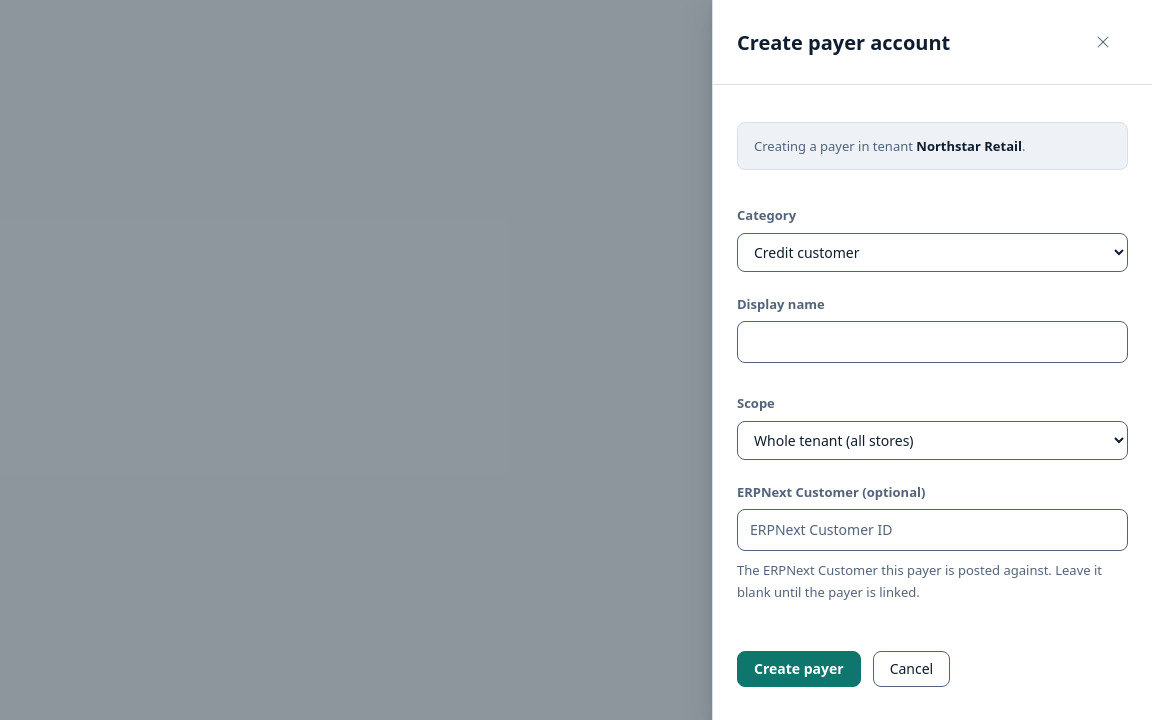
Test: PayerCreate › a server 400 (e.g. a bad externalRef) is form-level with the request id, never pinned on displayName
Type "CUST " into the field labelled "ERPNext Customer (optional)".
click(932, 530); type("CUST ")  # box 737,509 -> 1128,551
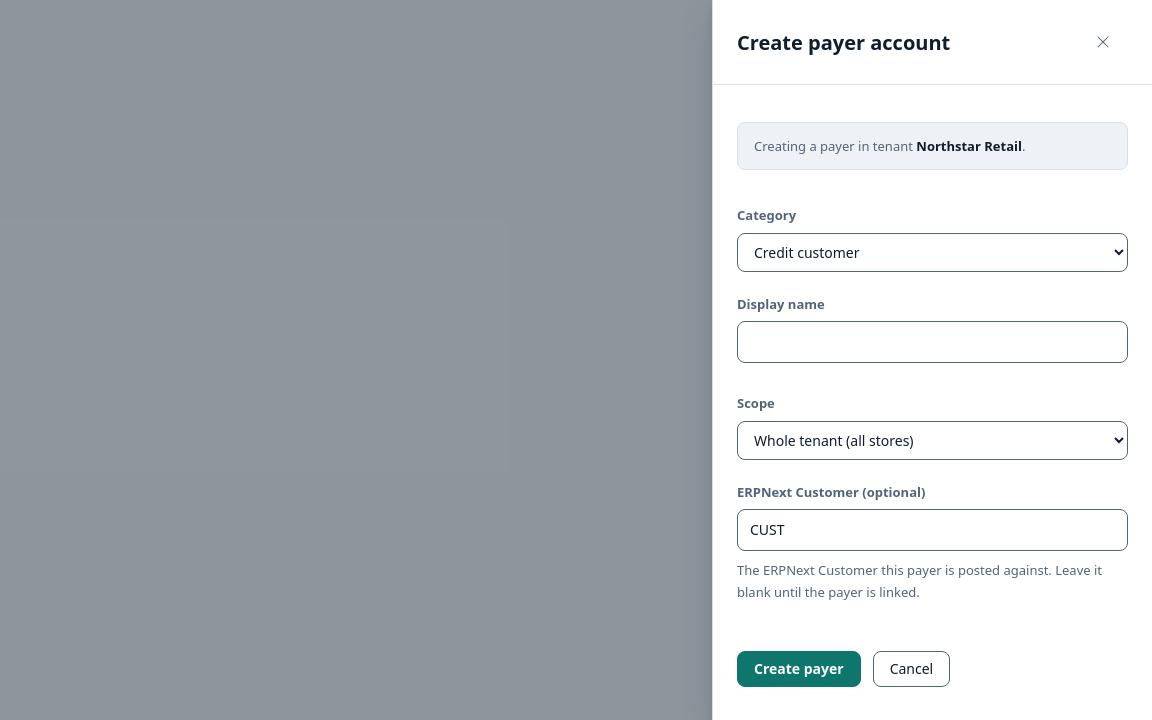
Type "MedCover Insurance" into the field labelled "Display name".
click(932, 342); type("MedCover Insurance")  # box 737,321 -> 1128,363
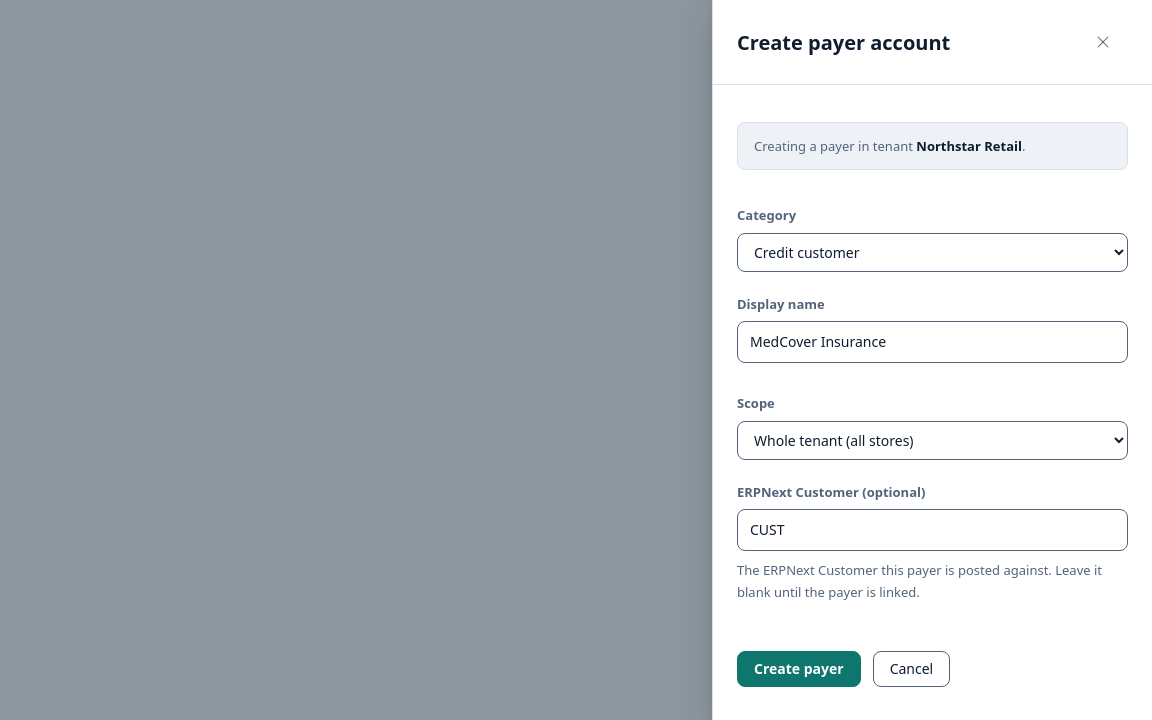
Click the button "Create payer".
click(799, 669)  # box 737,651 -> 861,687
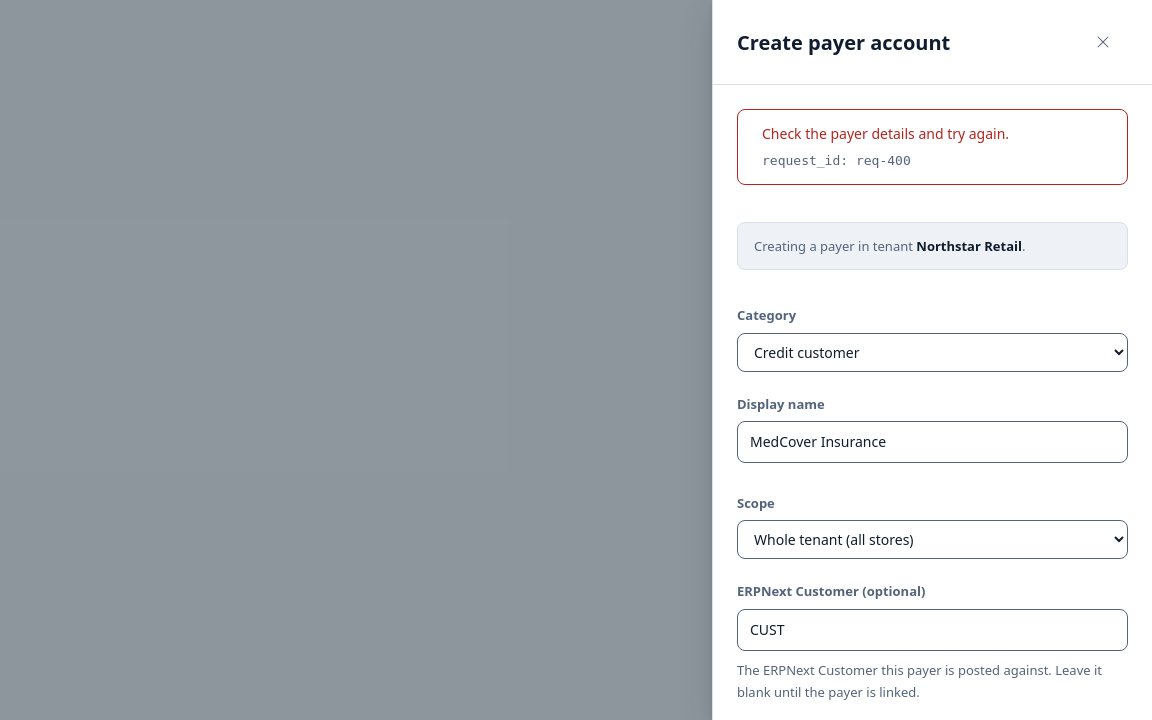
Now the text "Check the payer details and try again." is shown, box 762,124 -> 1009,143
Now the text "req-400" is shown, box 856,153 -> 911,168
